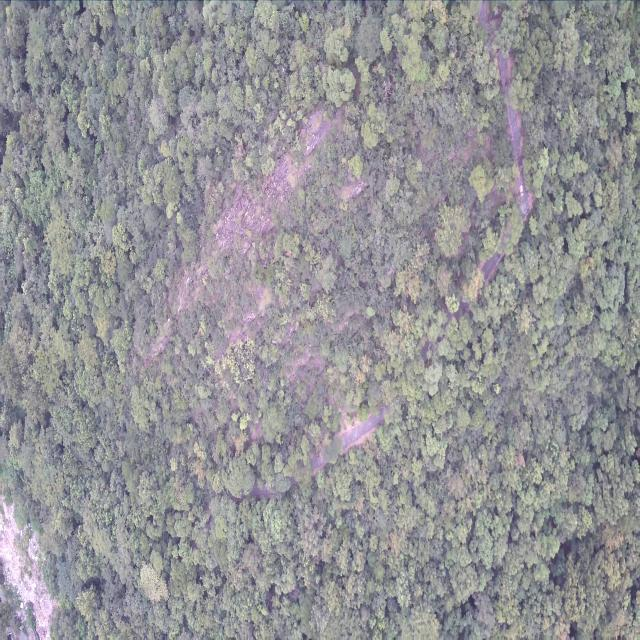drone: (281, 67, 285, 73)
